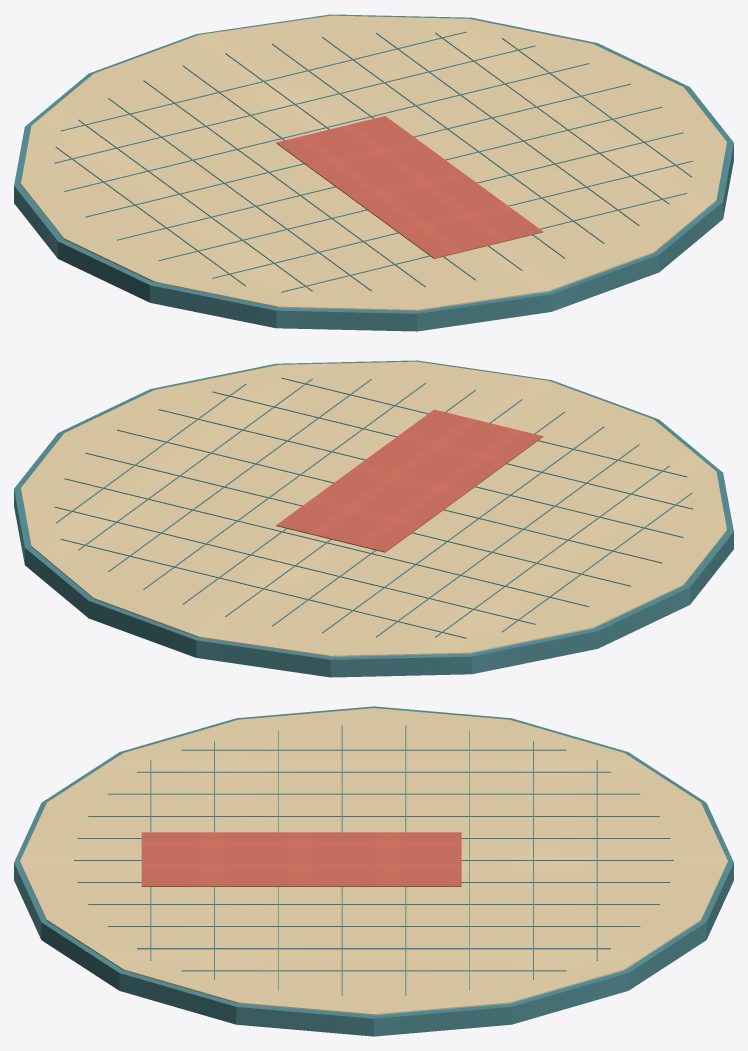
The model's file is atlas100-s075-a07.glb.
3 renders of one model, top to bottom at view 1: azimuth 30°, elevation 25°; view 2: azimuth 150°, elevation 25°; view 3: azimuth 270°, elevation 25°, orthographic.
Parts seen in each view (by area): view 1: atlas100-s075-a07:part-001, atlas100-s075-a07:part-000, atlas100-s075-a07:part-021, atlas100-s075-a07:part-015, atlas100-s075-a07:part-014, atlas100-s075-a07:part-016, atlas100-s075-a07:part-017, atlas100-s075-a07:part-018, atlas100-s075-a07:part-013, atlas100-s075-a07:part-019, atlas100-s075-a07:part-009, atlas100-s075-a07:part-005 (+2 smaller); view 2: atlas100-s075-a07:part-001, atlas100-s075-a07:part-000, atlas100-s075-a07:part-021, atlas100-s075-a07:part-015, atlas100-s075-a07:part-014, atlas100-s075-a07:part-017, atlas100-s075-a07:part-016, atlas100-s075-a07:part-018, atlas100-s075-a07:part-013, atlas100-s075-a07:part-019, atlas100-s075-a07:part-009, atlas100-s075-a07:part-005 (+2 smaller); view 3: atlas100-s075-a07:part-001, atlas100-s075-a07:part-000, atlas100-s075-a07:part-021, atlas100-s075-a07:part-004, atlas100-s075-a07:part-003, atlas100-s075-a07:part-011, atlas100-s075-a07:part-002, atlas100-s075-a07:part-012, atlas100-s075-a07:part-005, atlas100-s075-a07:part-009.
Part boxes in pixels (left/top/right/bottom): atlas100-s075-a07:part-001: left=21, top=15, right=726, bottom=310; atlas100-s075-a07:part-000: left=14, top=14, right=733, bottom=331; atlas100-s075-a07:part-021: left=276, top=116, right=543, bottom=258; atlas100-s075-a07:part-015: left=64, top=63, right=589, bottom=191; atlas100-s075-a07:part-014: left=55, top=45, right=535, bottom=163; atlas100-s075-a07:part-016: left=85, top=83, right=630, bottom=217; atlas100-s075-a07:part-017: left=117, top=106, right=662, bottom=240; atlas100-s075-a07:part-018: left=158, top=132, right=683, bottom=260; atlas100-s075-a07:part-013: left=60, top=31, right=466, bottom=131; atlas100-s075-a07:part-019: left=212, top=160, right=693, bottom=278; atlas100-s075-a07:part-009: left=322, top=37, right=604, bottom=243; atlas100-s075-a07:part-005: left=143, top=80, right=425, bottom=287; atlas100-s075-a07:part-001: left=21, top=361, right=726, bottom=656; atlas100-s075-a07:part-000: left=14, top=360, right=733, bottom=677; atlas100-s075-a07:part-021: left=276, top=409, right=543, bottom=552; atlas100-s075-a07:part-015: left=64, top=478, right=589, bottom=606; atlas100-s075-a07:part-014: left=54, top=506, right=535, bottom=624; atlas100-s075-a07:part-017: left=117, top=429, right=662, bottom=563; atlas100-s075-a07:part-016: left=85, top=452, right=630, bottom=586; atlas100-s075-a07:part-018: left=158, top=409, right=683, bottom=537; atlas100-s075-a07:part-013: left=60, top=539, right=466, bottom=638; atlas100-s075-a07:part-019: left=212, top=391, right=692, bottom=509; atlas100-s075-a07:part-009: left=143, top=383, right=425, bottom=589; atlas100-s075-a07:part-005: left=322, top=426, right=604, bottom=633; atlas100-s075-a07:part-001: left=20, top=708, right=727, bottom=1015; atlas100-s075-a07:part-000: left=14, top=706, right=733, bottom=1036; atlas100-s075-a07:part-021: left=141, top=832, right=461, bottom=886; atlas100-s075-a07:part-004: left=107, top=793, right=640, bottom=794; atlas100-s075-a07:part-003: left=137, top=771, right=610, bottom=772; atlas100-s075-a07:part-011: left=137, top=948, right=610, bottom=949; atlas100-s075-a07:part-002: left=181, top=749, right=566, bottom=750; atlas100-s075-a07:part-012: left=181, top=970, right=566, bottom=971; atlas100-s075-a07:part-005: left=88, top=816, right=659, bottom=816; atlas100-s075-a07:part-009: left=88, top=904, right=659, bottom=904.
Bounding box in the file's own units: 12.75 × 0.404 × 12.42.
Materials: 3 (3 with a texture image).
